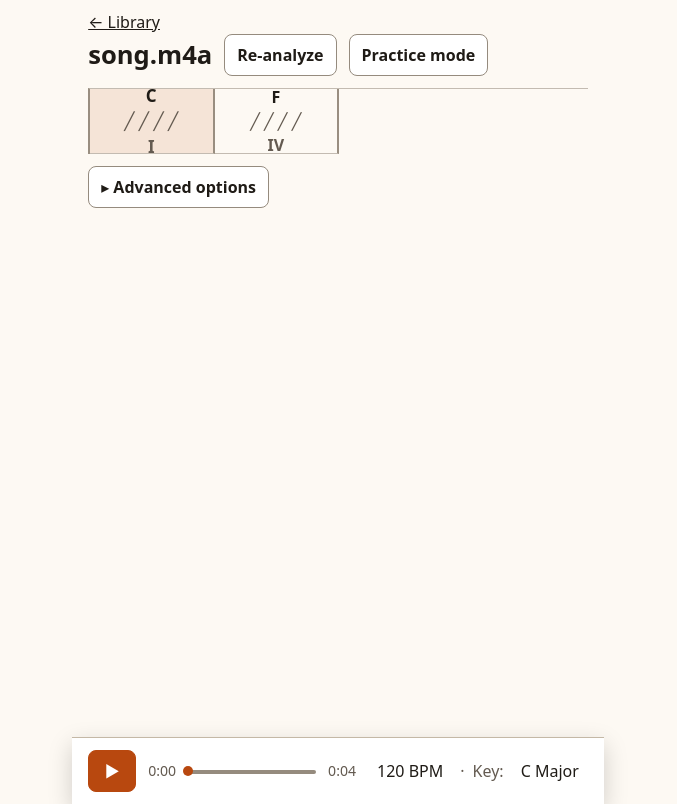
Scenario: opens the editor for the chord that was selected
Click the text "I" at coordinates (151, 146), box [148,134,155,159]
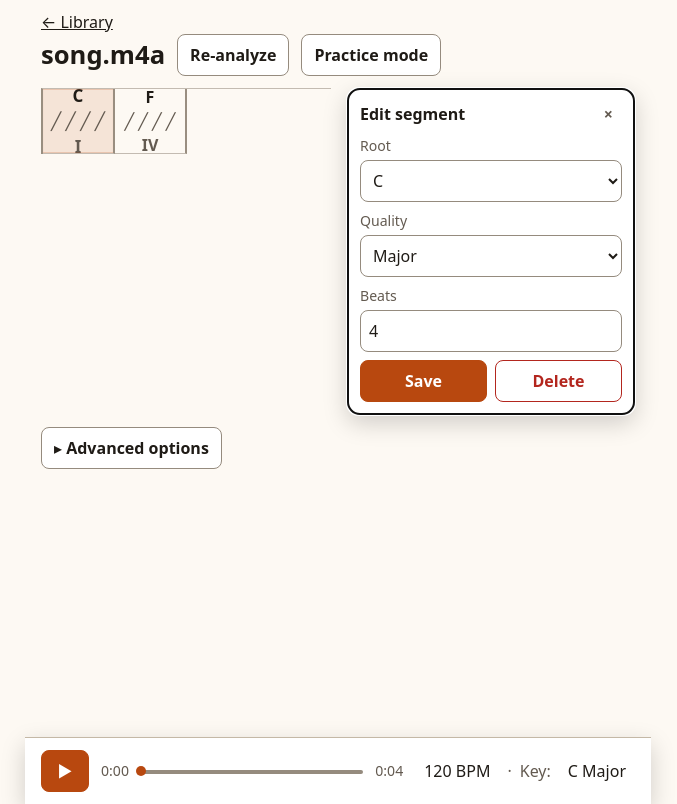
Result: the element "Edit segment × Root Quality Beats Save Delete" is shown at [347,88,635,415]
Result: the number field labelled "Beats" is shown at [360,310,622,352]
